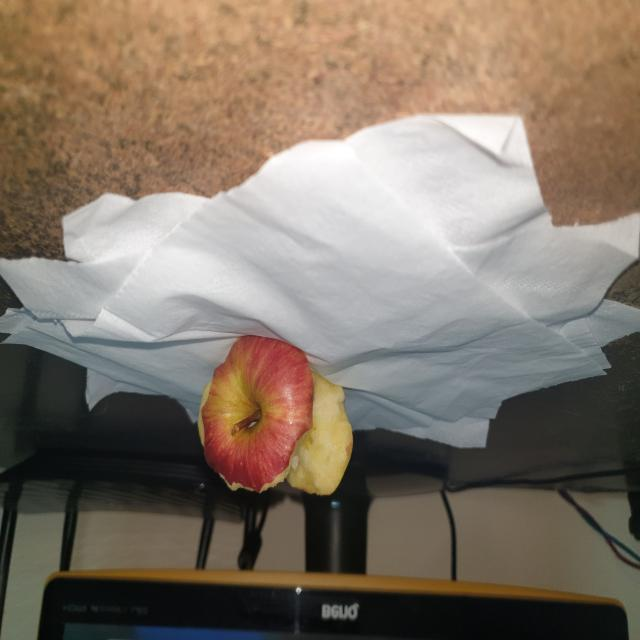apple: (192, 334, 356, 508)
